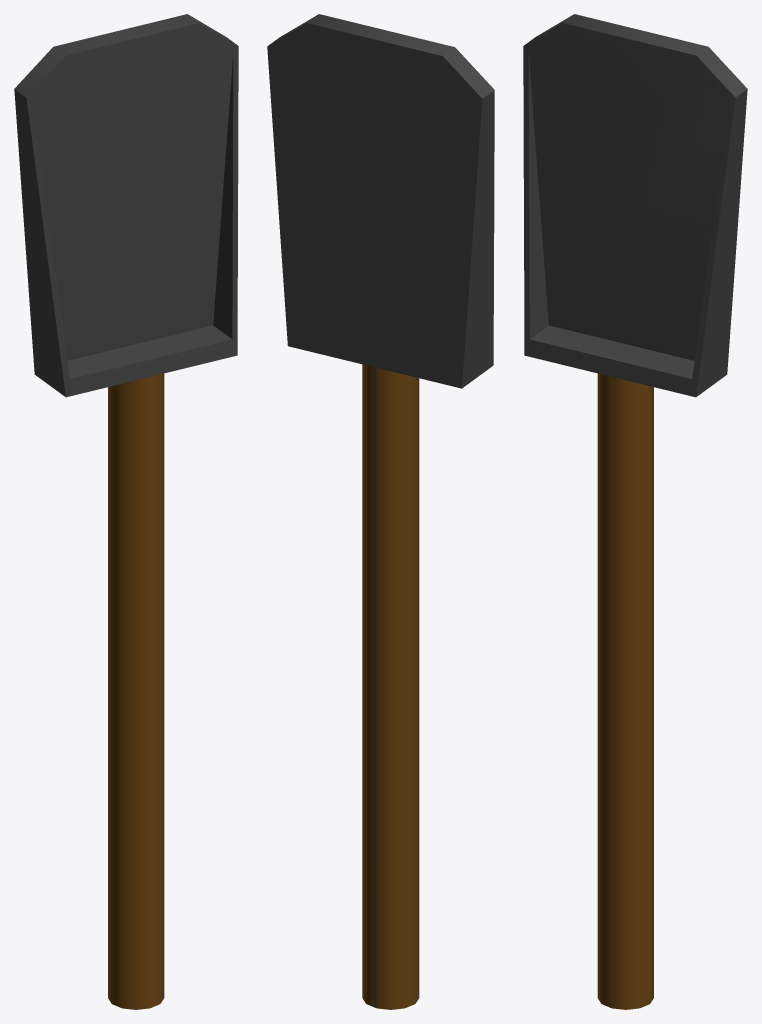
The model's file is Shovel.fbx.
3 views of the same model, side by side, from view 1: azimuth 30°, elevation 25°; view 2: azimuth 150°, elevation 25°; view 3: azimuth 330°, elevation 25° (orthographic).
Visible parts, largest first — view 1: Cylinder; view 2: Cylinder; view 3: Cylinder.
Boxes of the visible parts, x1,y1,x2,y2 form: Cylinder: (14, 14, 238, 1009); Cylinder: (267, 14, 494, 1009); Cylinder: (523, 14, 747, 1009).
Size of the model in its own units: 17.44 by 75.1 by 4.46.
